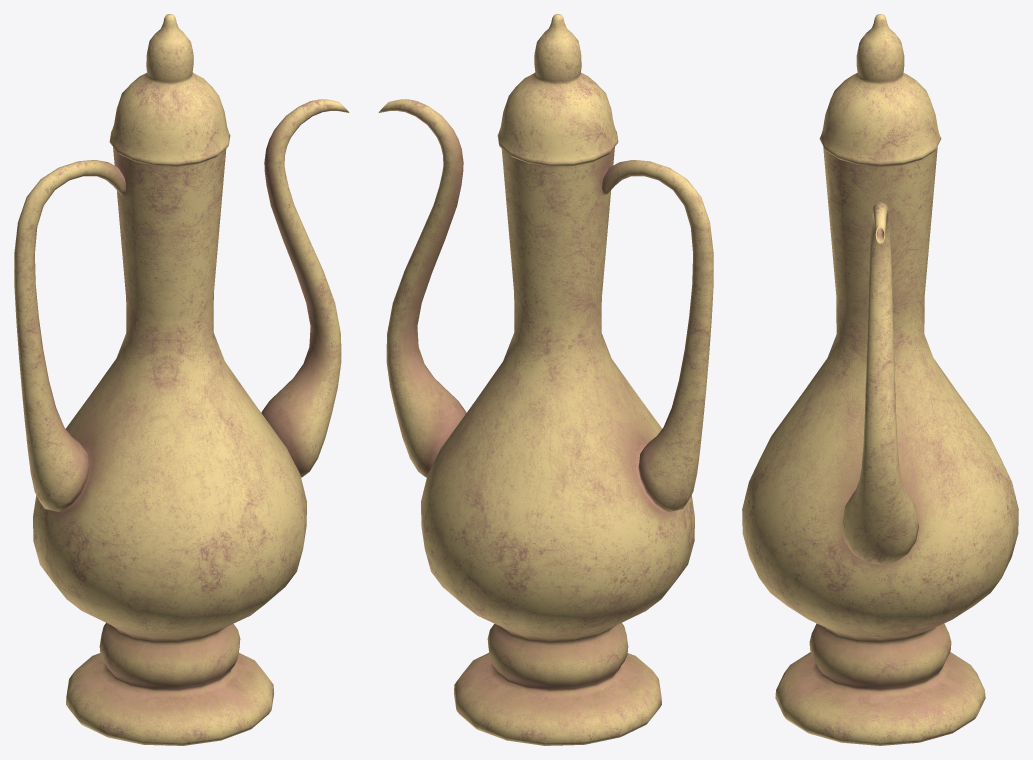
Rendered from gold.glb.
The picture shows the model from 3 angles, left to right: view 1: azimuth 30°, elevation 25°; view 2: azimuth 150°, elevation 25°; view 3: azimuth 270°, elevation 25°; orthographic projection.
Visible parts, largest first — view 1: gold pitcher; view 2: gold pitcher; view 3: gold pitcher.
Boxes of the visible parts, x1,y1,x2,y2 form: gold pitcher: (14,14,349,745); gold pitcher: (378,14,713,745); gold pitcher: (742,14,1018,745).
Size of the model in its own units: 0.1793 by 0.355 by 0.1289.
1 material, 1 textured.
